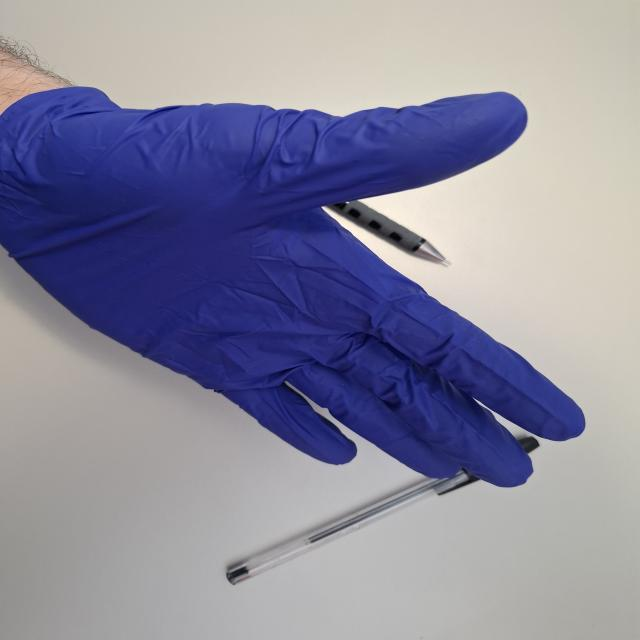glove_on: (0, 84, 591, 491)
